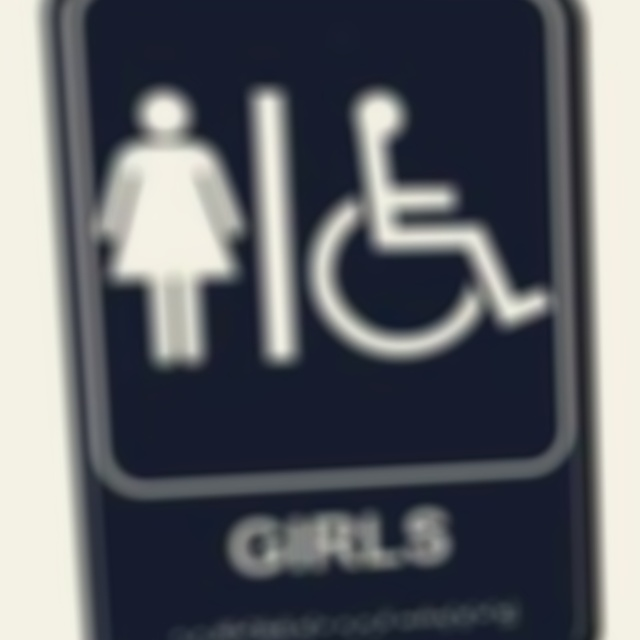ISA: (296, 86, 558, 370)
